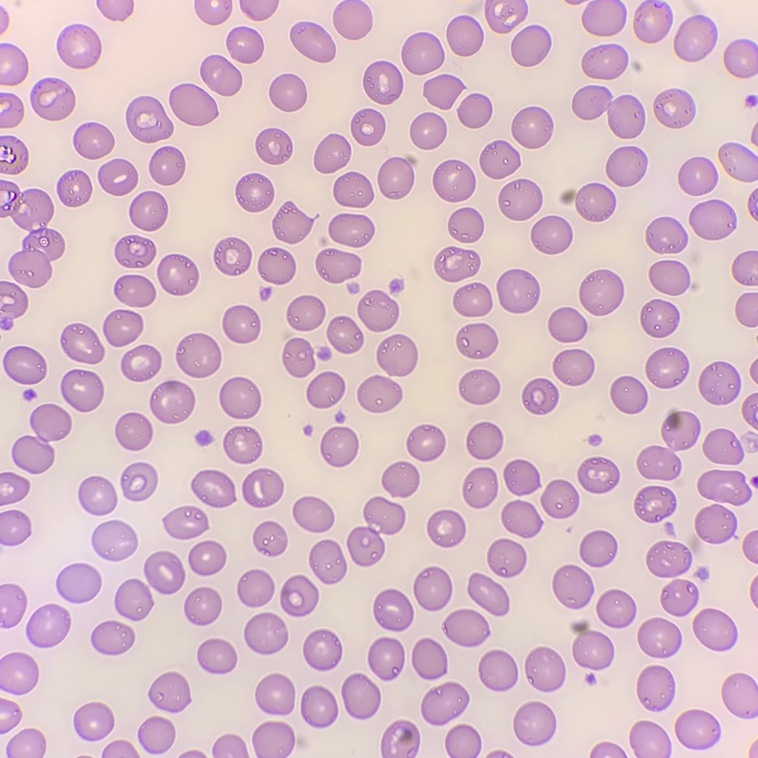RBC: (0, 180, 64, 287), (637, 409, 699, 479), (12, 404, 71, 473), (347, 497, 404, 565), (572, 85, 644, 138), (674, 9, 716, 61), (126, 96, 172, 142), (561, 183, 615, 221), (646, 539, 700, 577), (571, 621, 613, 669), (579, 270, 623, 315), (421, 682, 468, 724), (169, 84, 217, 125), (176, 333, 220, 377), (57, 24, 100, 68), (150, 380, 194, 423), (31, 78, 74, 120), (497, 269, 539, 312), (27, 604, 70, 646), (290, 22, 335, 62), (689, 200, 735, 239), (693, 609, 736, 650), (244, 613, 287, 654), (698, 470, 749, 504), (433, 160, 475, 201), (499, 179, 541, 220), (61, 370, 103, 411), (514, 702, 555, 744), (525, 647, 564, 691), (637, 665, 674, 711), (402, 33, 443, 74), (157, 254, 198, 295), (646, 348, 688, 388), (144, 551, 184, 593), (57, 563, 100, 602), (553, 565, 592, 608), (93, 521, 137, 559), (342, 674, 380, 718), (675, 710, 719, 748), (200, 55, 241, 95), (512, 107, 552, 148), (358, 290, 398, 331), (220, 377, 260, 418), (468, 574, 508, 615), (363, 61, 402, 103), (61, 324, 103, 363), (699, 362, 738, 404), (638, 618, 680, 657), (3, 346, 46, 384), (444, 609, 488, 646), (606, 146, 646, 186), (377, 335, 417, 375), (511, 25, 550, 66), (309, 540, 346, 583), (414, 567, 451, 610), (149, 672, 189, 711), (255, 674, 294, 714), (242, 469, 283, 507), (280, 575, 318, 616), (374, 589, 412, 630), (634, 0, 671, 42), (192, 470, 234, 507), (358, 376, 401, 412), (722, 673, 757, 717), (582, 44, 627, 78), (333, 0, 372, 39), (654, 89, 694, 127), (303, 629, 341, 669), (479, 650, 517, 690), (0, 653, 38, 693), (695, 505, 736, 542), (115, 579, 152, 620), (582, 0, 625, 35), (435, 247, 479, 281), (273, 203, 311, 242), (74, 702, 113, 740), (531, 216, 571, 253), (378, 157, 414, 198), (368, 638, 404, 679), (316, 249, 360, 282), (164, 506, 208, 539), (719, 143, 757, 181), (678, 157, 716, 195), (480, 141, 519, 178), (130, 191, 167, 230), (321, 427, 358, 466), (121, 345, 161, 381), (553, 349, 593, 385), (301, 686, 337, 726), (630, 721, 670, 757), (456, 323, 497, 358), (634, 486, 675, 521), (253, 722, 294, 757), (329, 214, 373, 246), (236, 173, 273, 211), (79, 476, 116, 514), (487, 539, 525, 576), (184, 587, 221, 625), (597, 590, 635, 627), (381, 720, 419, 757), (74, 122, 113, 158), (98, 159, 137, 195), (103, 310, 142, 346), (447, 15, 482, 55), (646, 217, 686, 252), (459, 369, 499, 404), (578, 457, 618, 492), (92, 621, 134, 654), (269, 74, 306, 111), (641, 300, 678, 337), (115, 413, 152, 450), (224, 426, 261, 463), (541, 480, 578, 517), (314, 134, 350, 172), (502, 501, 540, 537), (427, 510, 465, 546), (333, 172, 372, 207), (703, 429, 742, 464), (649, 260, 689, 294), (463, 467, 497, 507), (293, 497, 333, 531), (412, 638, 446, 678), (485, 0, 527, 32), (223, 306, 260, 342), (327, 316, 363, 353), (121, 463, 157, 500), (149, 146, 184, 184), (548, 307, 586, 342), (410, 113, 446, 149), (256, 128, 292, 164), (214, 238, 250, 274), (0, 281, 27, 329), (522, 378, 558, 414), (237, 570, 273, 606), (138, 717, 174, 753), (226, 27, 263, 62), (258, 248, 295, 283), (287, 295, 324, 330), (307, 372, 344, 407), (611, 376, 646, 413), (467, 422, 502, 459), (407, 425, 444, 460), (424, 74, 462, 108), (115, 235, 155, 267), (114, 275, 155, 306), (580, 531, 616, 566), (661, 580, 697, 615), (382, 462, 419, 496), (724, 39, 757, 77), (453, 283, 491, 316), (198, 639, 236, 672), (57, 170, 91, 206), (189, 541, 225, 575), (448, 208, 483, 242), (504, 460, 539, 494), (351, 109, 384, 145), (283, 338, 314, 376), (446, 724, 480, 757), (0, 584, 26, 626), (458, 94, 491, 127), (253, 522, 286, 555), (0, 44, 27, 84), (7, 729, 45, 757), (0, 510, 30, 544), (0, 136, 27, 173), (0, 472, 29, 504), (194, 0, 231, 24), (732, 251, 757, 285), (0, 93, 23, 127), (213, 734, 247, 757), (240, 0, 278, 20), (96, 0, 133, 20), (736, 293, 757, 326), (0, 699, 20, 732), (102, 740, 137, 757), (591, 742, 624, 757), (743, 531, 757, 562), (742, 393, 757, 421), (0, 8, 8, 31), (196, 431, 210, 444), (390, 280, 403, 292), (750, 580, 757, 602), (744, 433, 755, 446), (319, 347, 330, 359), (745, 95, 756, 106), (698, 567, 708, 578), (751, 362, 757, 380), (184, 751, 202, 757), (260, 287, 270, 297), (750, 744, 757, 757), (751, 128, 757, 143), (489, 751, 503, 757), (590, 435, 599, 444), (349, 284, 358, 292), (24, 390, 33, 398), (751, 191, 757, 201), (753, 209, 757, 217)
